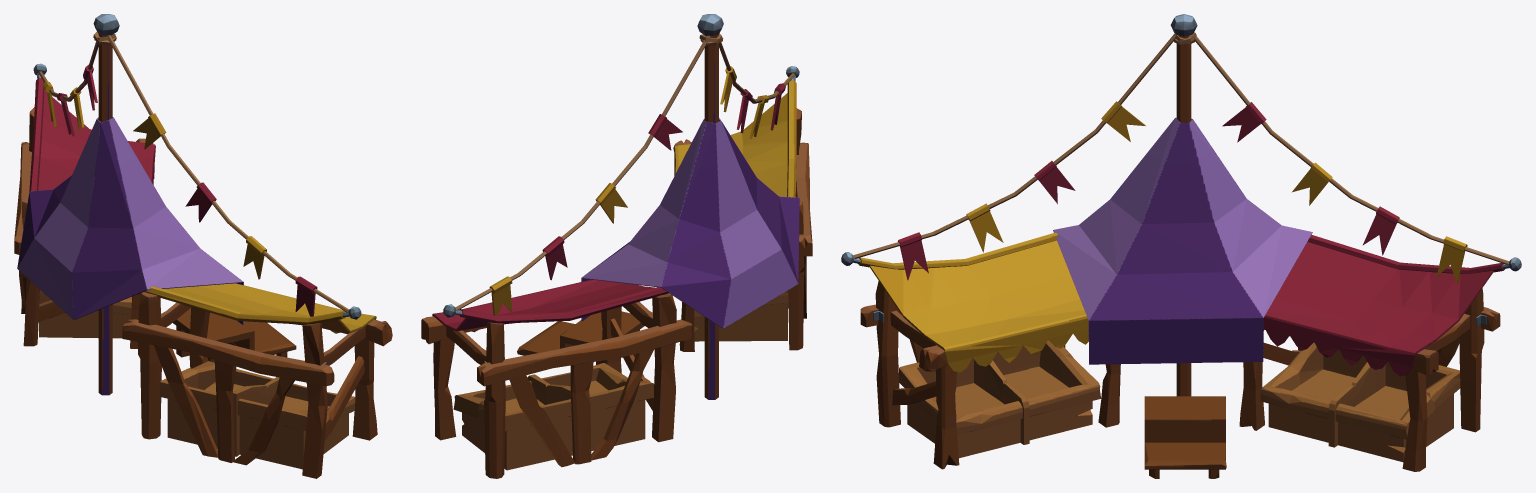
The model's file is Caseta01.fbx.
3 renders of one model, left to right at view 1: azimuth 30°, elevation 25°; view 2: azimuth 150°, elevation 25°; view 3: azimuth 270°, elevation 25°, orthographic. The views are drawn at different scales.
Parts seen in each view (by area): view 1: tent04; view 2: tent04; view 3: tent04.
Boxes of the visible parts, left/top/right/bottom form: tent04: left=14, top=14, right=392, bottom=478; tent04: left=421, top=14, right=812, bottom=478; tent04: left=841, top=14, right=1521, bottom=478.
Bounding box in the file's own units: 6.62 × 10.35 × 16.55.
Materials: 1 (1 with a texture image).
